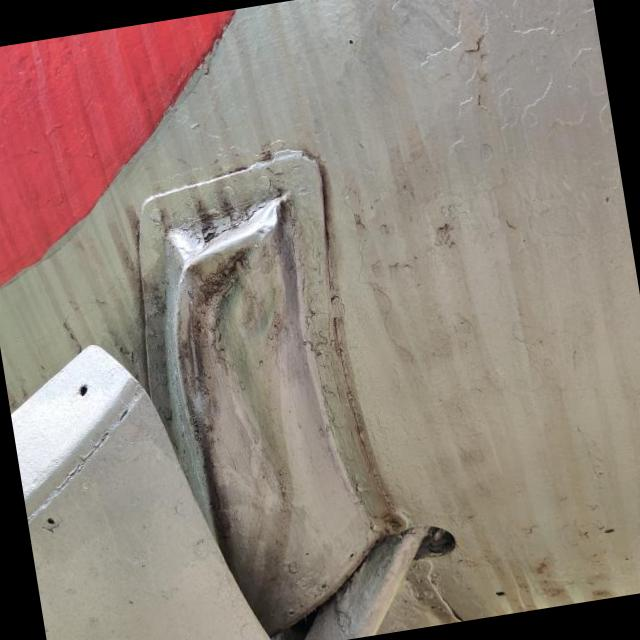Dent: (139, 152, 391, 612)
